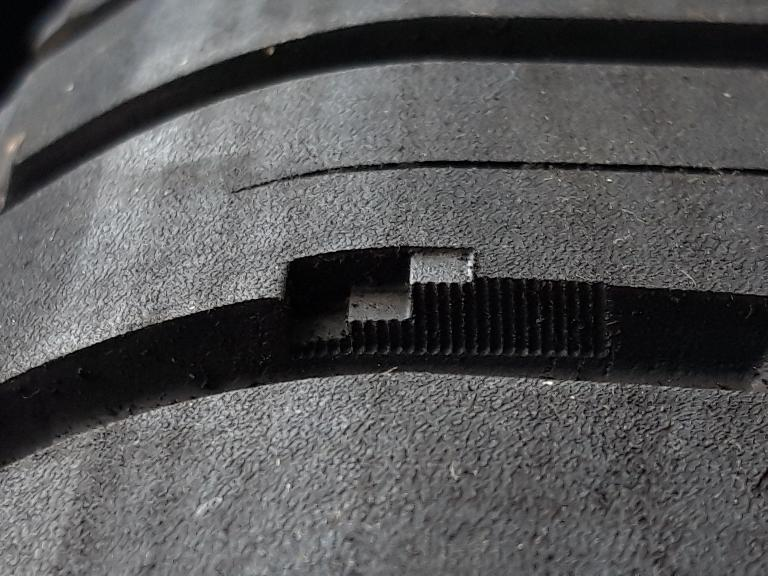temoin:50: (266, 239, 490, 365)
